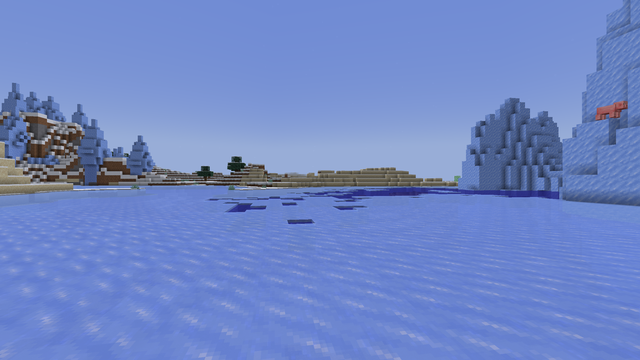cochons: (595, 103, 621, 119)
